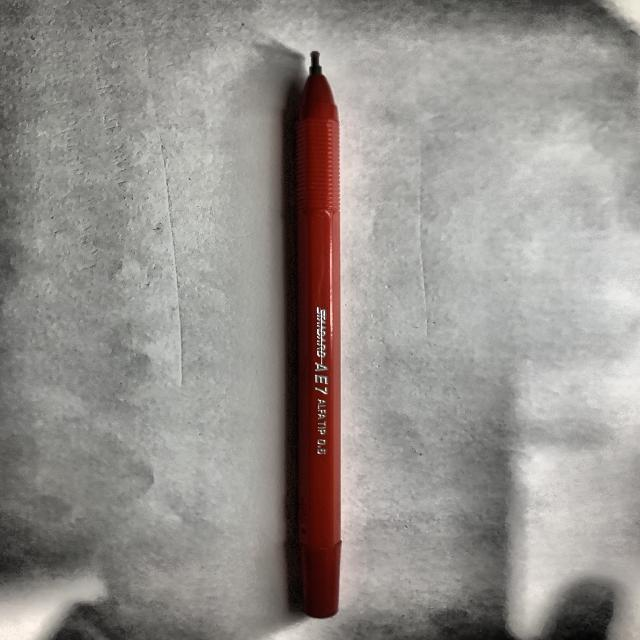Pulpen: (271, 39, 376, 631)
